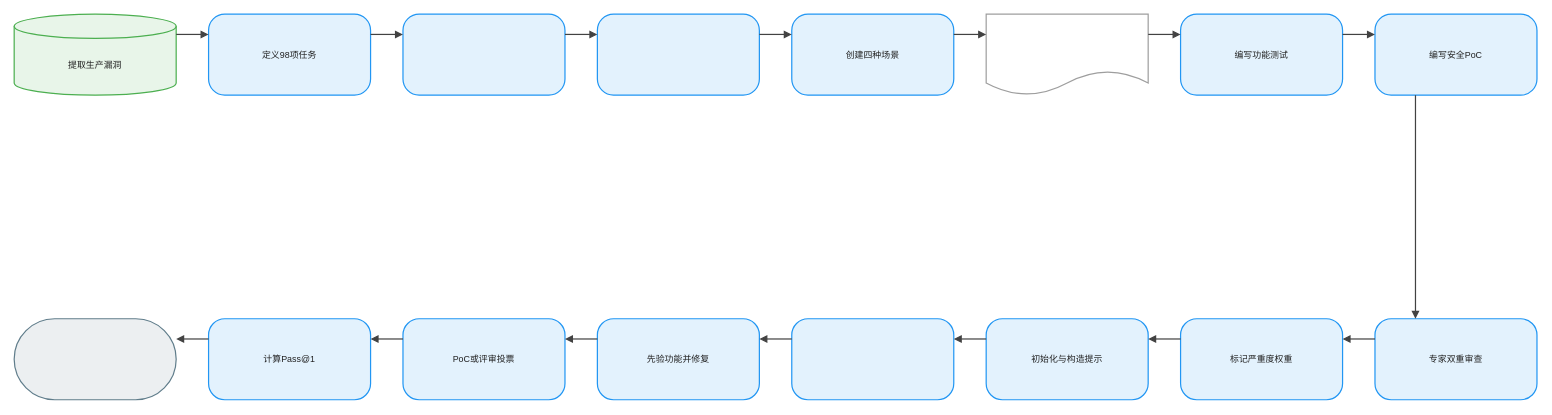
Image size: 1552x415. Some labels were removed from this diagram. The centre of each missing label's shape, as x and y in pixels:
Docker编译运行: (x=872, y=359)
加权分组并导出: (x=94, y=359)
发布中英文提示: (x=1066, y=54)
构建项目脚手架: (x=678, y=54)
覆盖22类CWE: (x=483, y=54)
